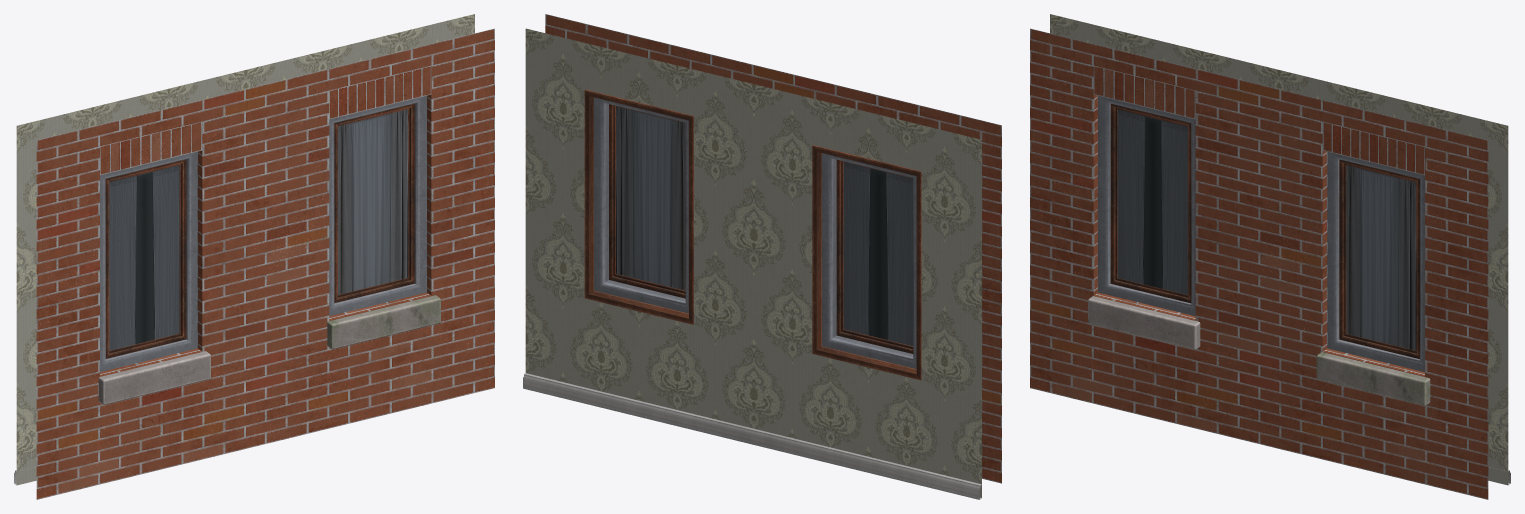
File: House_05_Window_03.fbx
The picture shows the model from 3 angles, left to right: view 1: azimuth 30°, elevation 25°; view 2: azimuth 150°, elevation 25°; view 3: azimuth 330°, elevation 25°; orthographic projection.
Parts seen in each view (by area): view 1: House_05_Window_03_LOD0; view 2: House_05_Window_03_LOD0; view 3: House_05_Window_03_LOD0.
Part boxes in pixels (x1,y1,x2,y2): House_05_Window_03_LOD0: (14,14,494,499); House_05_Window_03_LOD0: (523,14,1001,499); House_05_Window_03_LOD0: (1030,14,1510,499).
Size of what is drawn, in the model's own units: 400 by 300 by 41.19.
